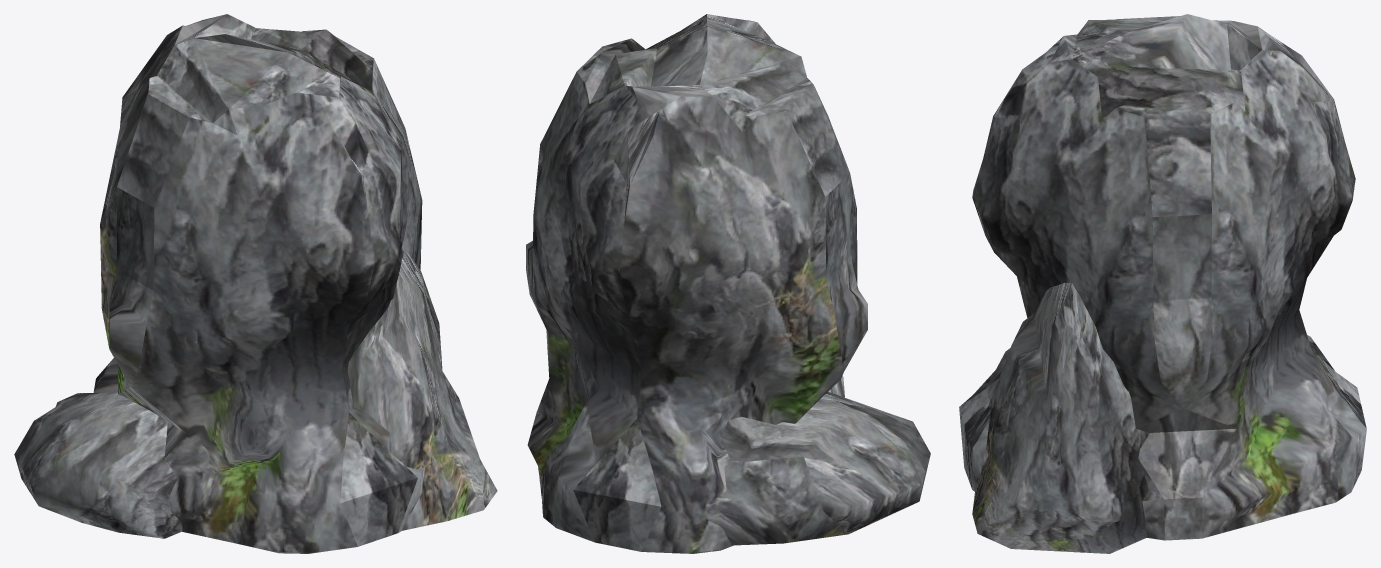
The model's file is furni_0200929.FBX.
3 views of the same model, side by side, from view 1: azimuth 30°, elevation 25°; view 2: azimuth 150°, elevation 25°; view 3: azimuth 270°, elevation 25° (orthographic). The views are drawn at different scales.
Parts seen in each view (by area): view 1: furni_0200929; view 2: furni_0200929; view 3: furni_0200929.
Part boxes in pixels (x1,y1,x2,y2): furni_0200929: [14, 14, 497, 553]; furni_0200929: [526, 14, 930, 553]; furni_0200929: [959, 14, 1366, 553].
Size of the model in its own units: 171 by 180 by 149.
1 material, 1 textured.
